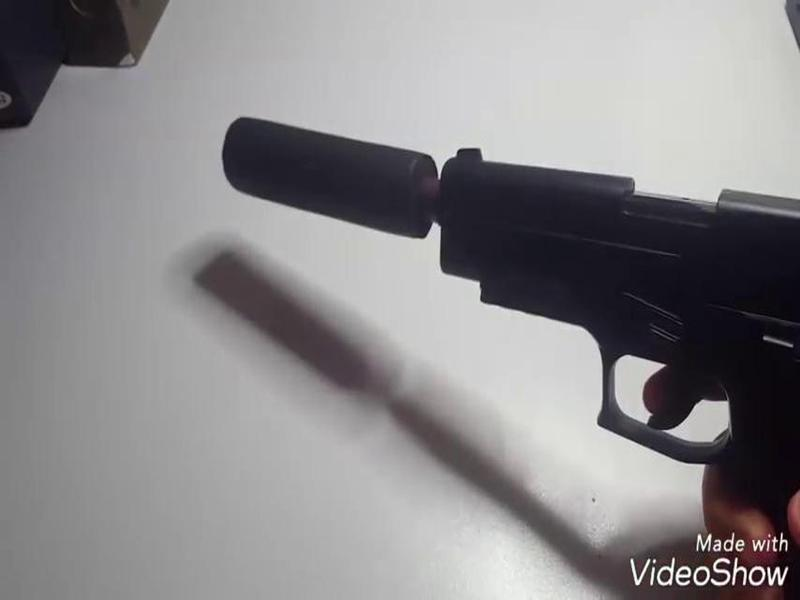Pistola: (447, 143, 800, 535)
